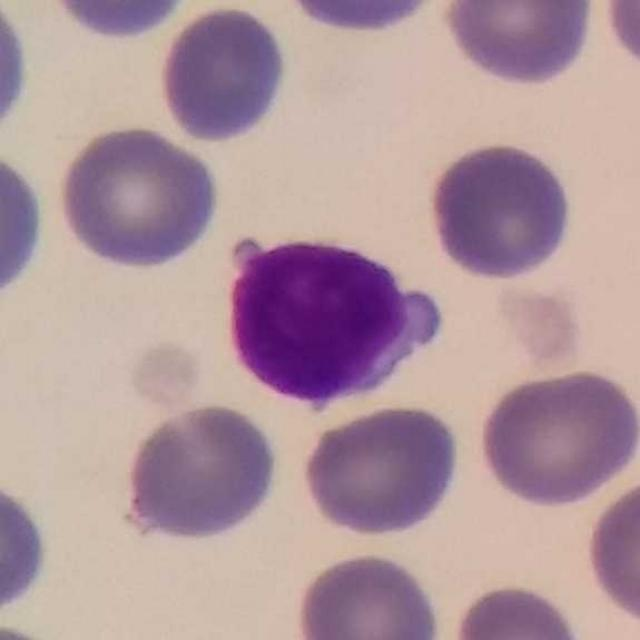Lymphocyte: (214, 222, 451, 418)
RBC: (54, 121, 222, 273), (117, 398, 284, 546), (474, 365, 639, 510), (300, 400, 466, 541), (422, 137, 579, 283), (154, 1, 292, 146), (437, 0, 600, 90), (290, 547, 445, 640), (582, 470, 640, 632), (0, 142, 51, 314), (447, 579, 589, 640), (0, 472, 53, 621), (267, 0, 459, 39), (39, 0, 198, 45), (0, 1, 33, 145), (597, 0, 640, 75)
